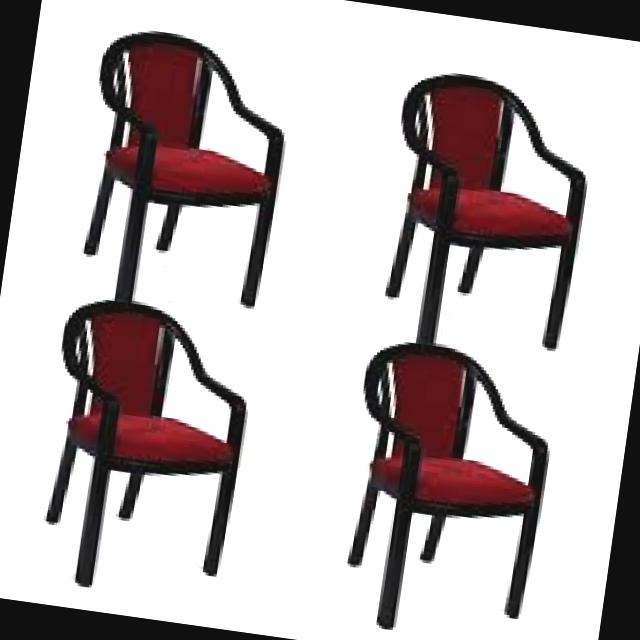obstacle: (293, 322, 594, 640), (51, 0, 336, 324), (2, 303, 287, 615), (354, 33, 634, 350)
